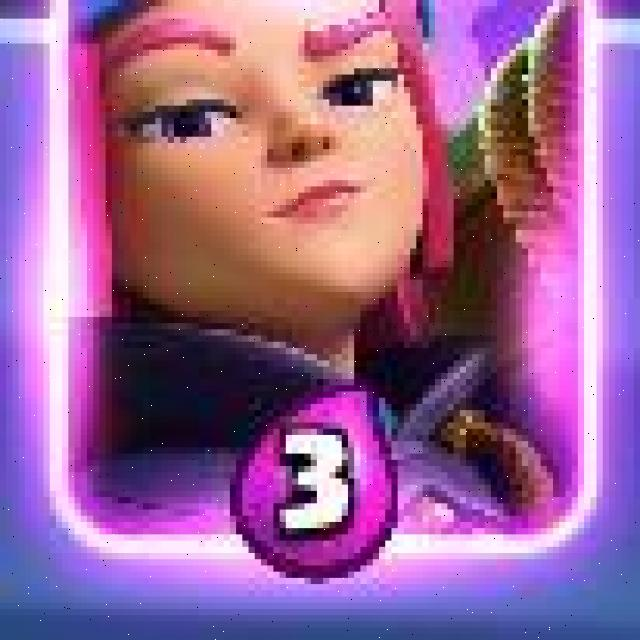Evolved_Firecracker: (48, 1, 604, 564)
